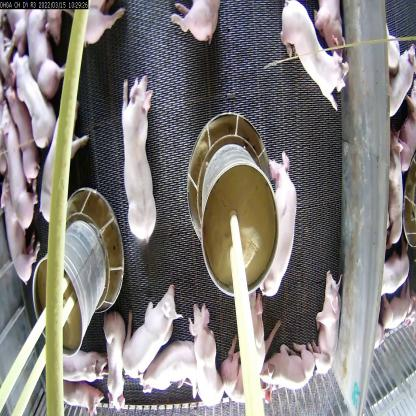Pig: (115, 73, 164, 234), (280, 0, 350, 109), (255, 148, 300, 310), (115, 290, 180, 379), (182, 302, 228, 411), (0, 107, 37, 235), (11, 59, 61, 152), (21, 5, 67, 102), (138, 338, 200, 401), (246, 292, 285, 381), (313, 267, 347, 369), (99, 310, 134, 403), (221, 340, 264, 415), (264, 344, 315, 394)
